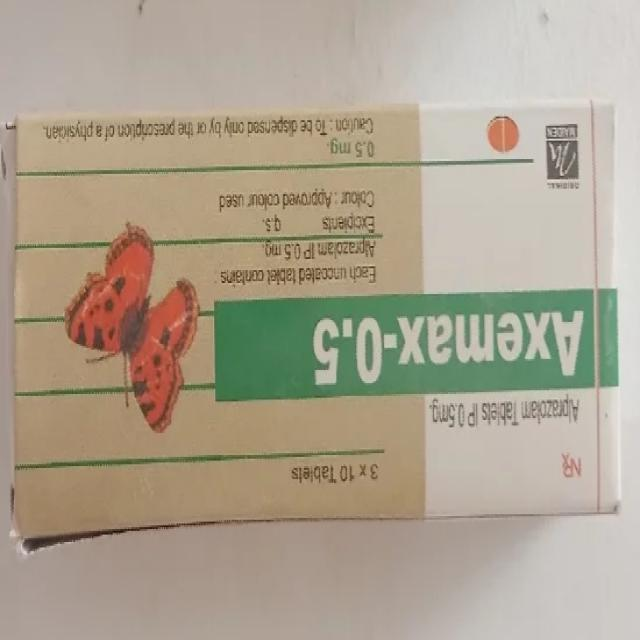drug-name: (297, 307, 587, 385)
